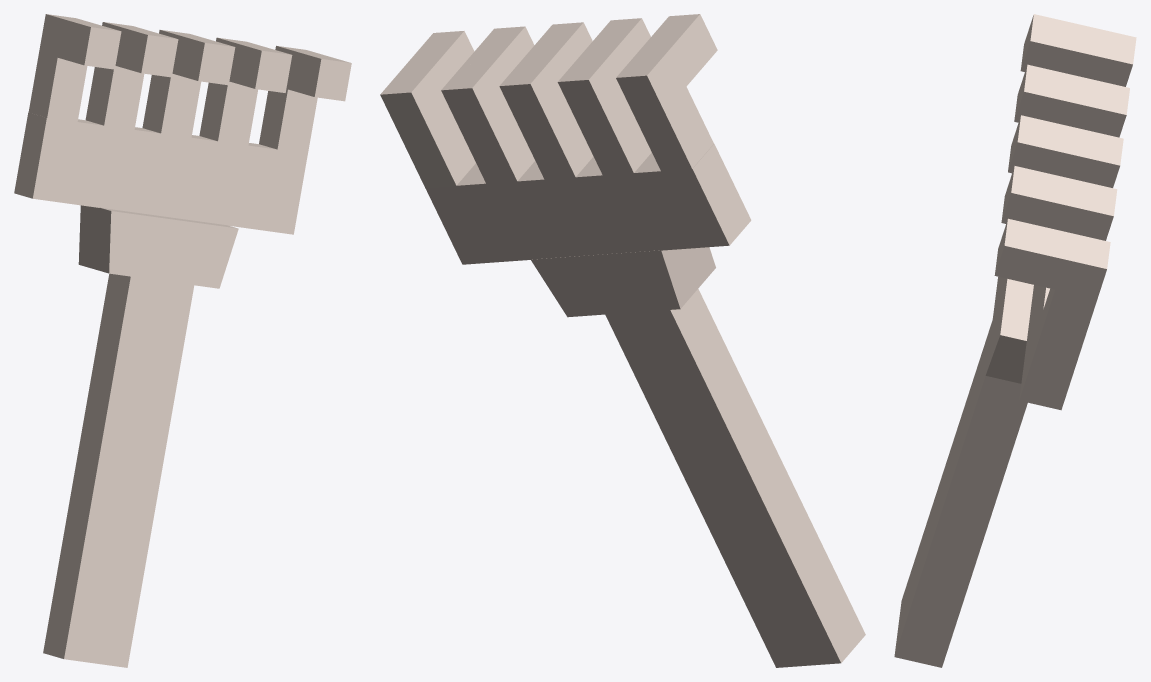
File: Playground_rake2.fbx
3 views of the same model, side by side, from view 1: azimuth 30°, elevation 25°; view 2: azimuth 150°, elevation 25°; view 3: azimuth 270°, elevation 25° (orthographic). The views are drawn at different scales.
Parts seen in each view (by area): view 1: Playground_rake2; view 2: Playground_rake2; view 3: Playground_rake2.
Boxes of the visible parts, x1,y1,x2,y2 form: Playground_rake2: (14,14,351,667); Playground_rake2: (380,14,865,667); Playground_rake2: (894,14,1136,667).
Bounding box in the file's own units: 16.8 × 28.71 × 9.43.
